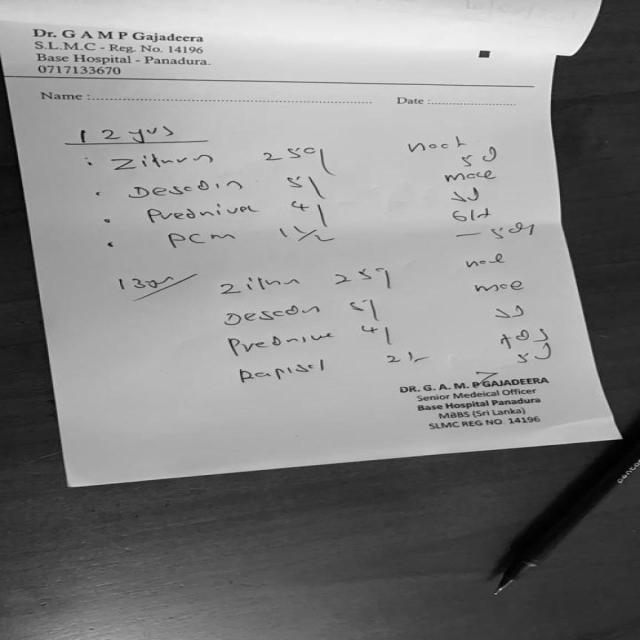Prescription: (105, 129, 521, 177)
